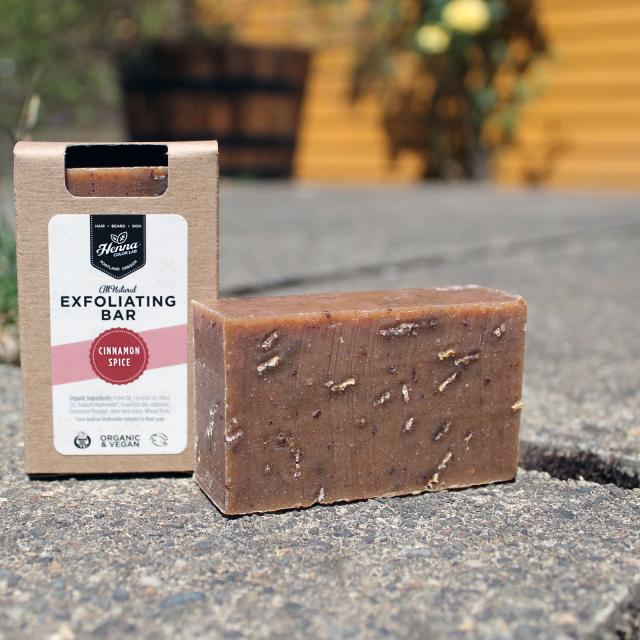soap: (187, 282, 536, 520)
